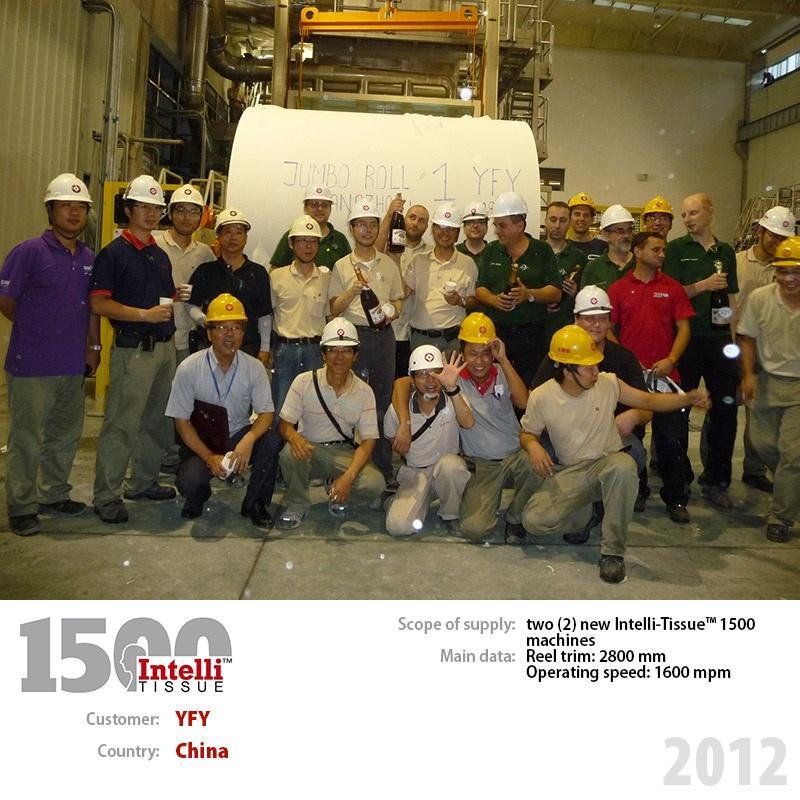Helmet: (43, 171, 95, 238), (123, 175, 167, 237)
NoHelmet: (679, 193, 713, 237), (635, 231, 667, 273)
